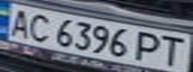3: (69, 20, 93, 52)
6: (51, 16, 78, 48), (109, 25, 133, 60)
9: (90, 22, 112, 55)
A: (3, 7, 36, 38)
C: (24, 11, 57, 43)
P: (133, 29, 166, 64)
T: (154, 34, 190, 68)
